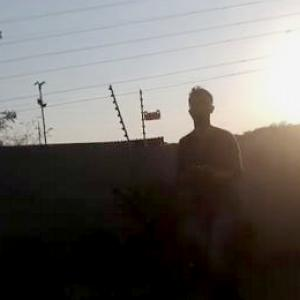follow: (170, 75, 252, 299)
